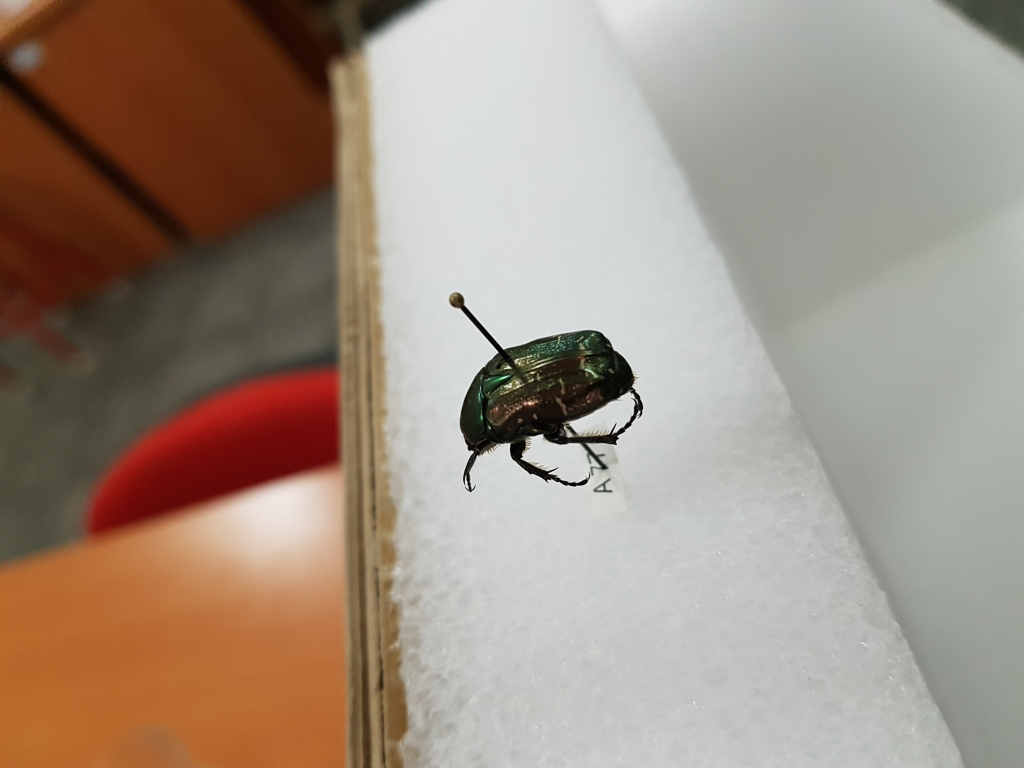Cetonia_aurata: (441, 330, 649, 495)
